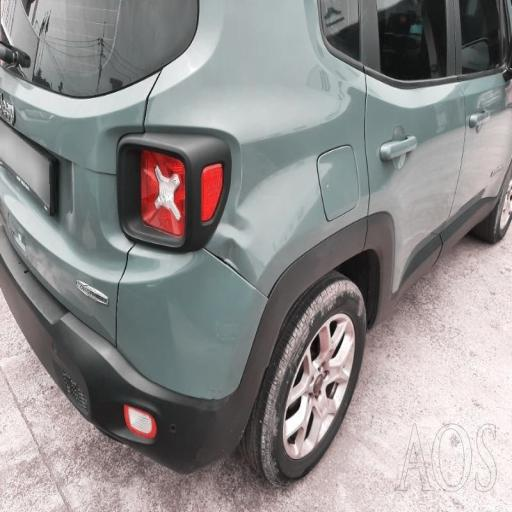dent: (88, 63, 340, 364)
